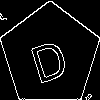D: (25, 30, 71, 85)
